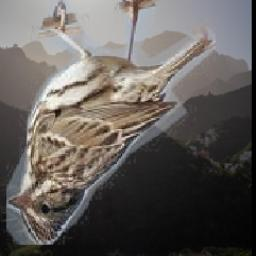Sparrow: (7, 0, 217, 246)
